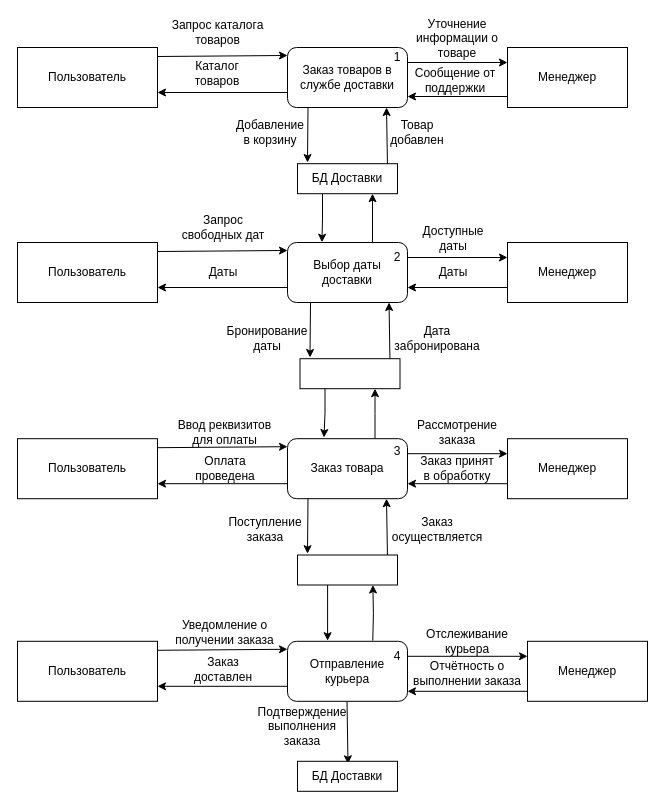
The diagram is 665 pixels wide and 810 high, and some of its shapes have lost their labels. The centre of each missing label's shape, as x and y in pixels:
БД Даты: the point at 349,373
БД Заказы: the point at 347,569
